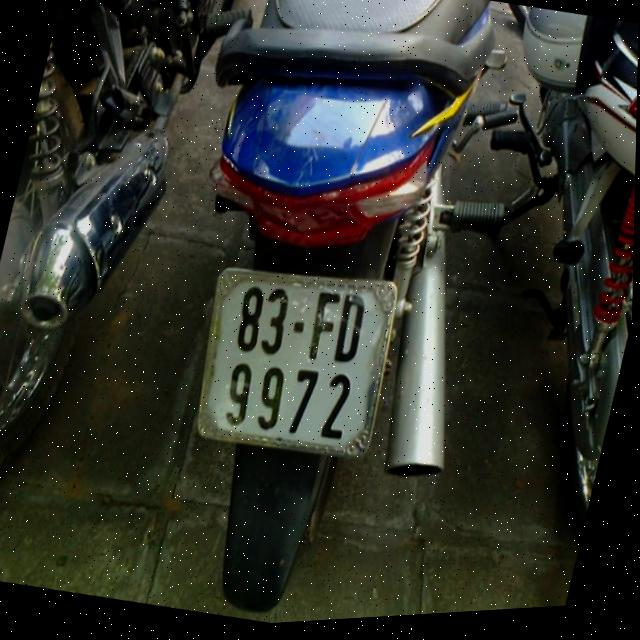motorcycle: (100, 0, 553, 633), (0, 0, 266, 535), (385, 0, 639, 551)
plate: (182, 247, 408, 476)
